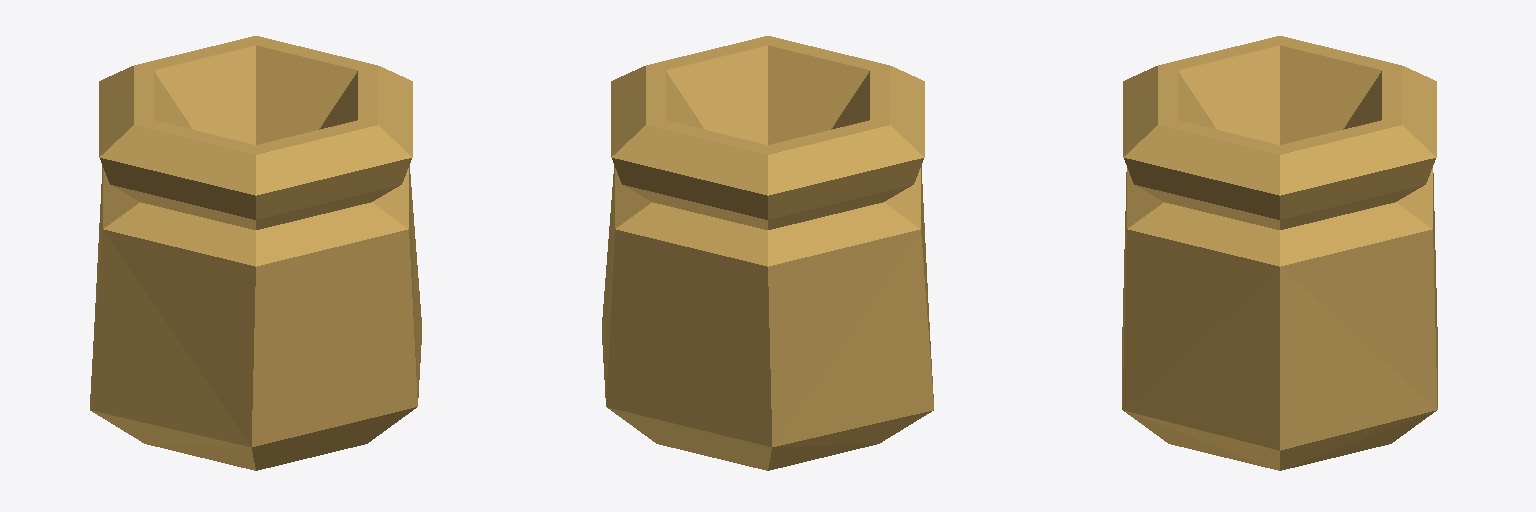
The model's file is jug_004.obj.
3 views of the same model, side by side, from view 1: azimuth 30°, elevation 25°; view 2: azimuth 150°, elevation 25°; view 3: azimuth 270°, elevation 25° (orthographic).
Parts seen in each view (by area): view 1: jug_004; view 2: jug_004; view 3: jug_004.
Boxes of the visible parts, <box> form: jug_004: <box>90,36,421,470</box>; jug_004: <box>602,36,933,470</box>; jug_004: <box>1122,36,1437,470</box>.
Bounding box in the file's own units: 0.3624 × 0.3344 × 0.2971.